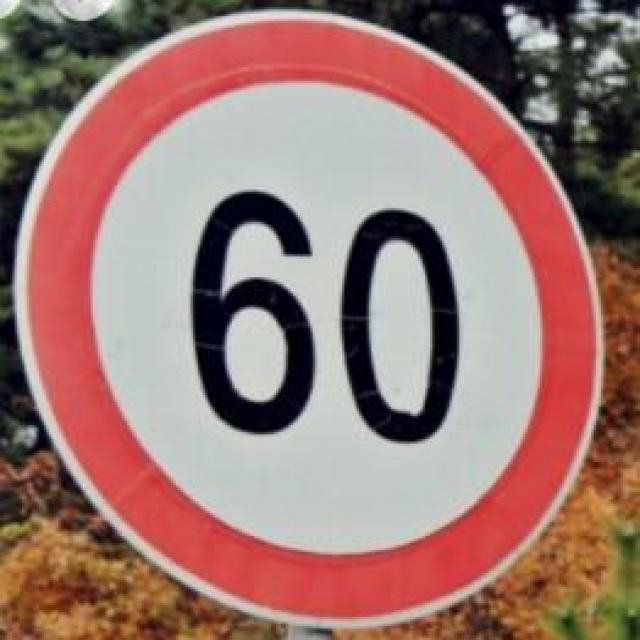speed limit 60: (12, 6, 605, 620)
